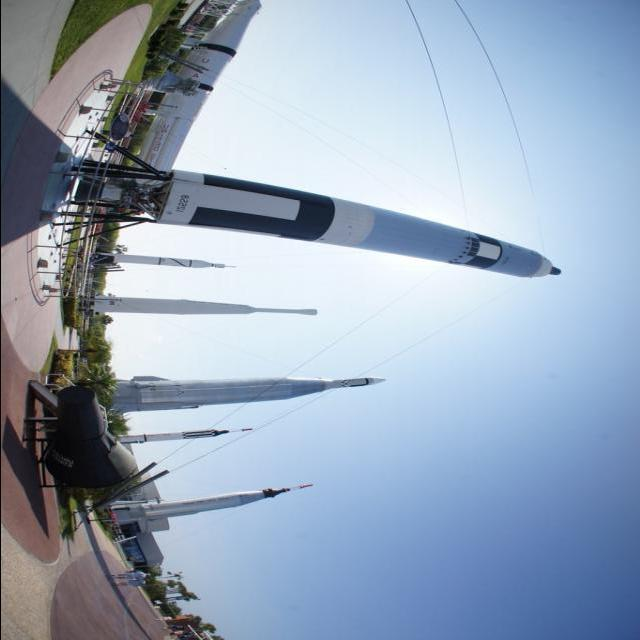Missile: (117, 154, 563, 282), (98, 376, 384, 410), (108, 479, 326, 522), (94, 254, 232, 270), (108, 427, 234, 443)
